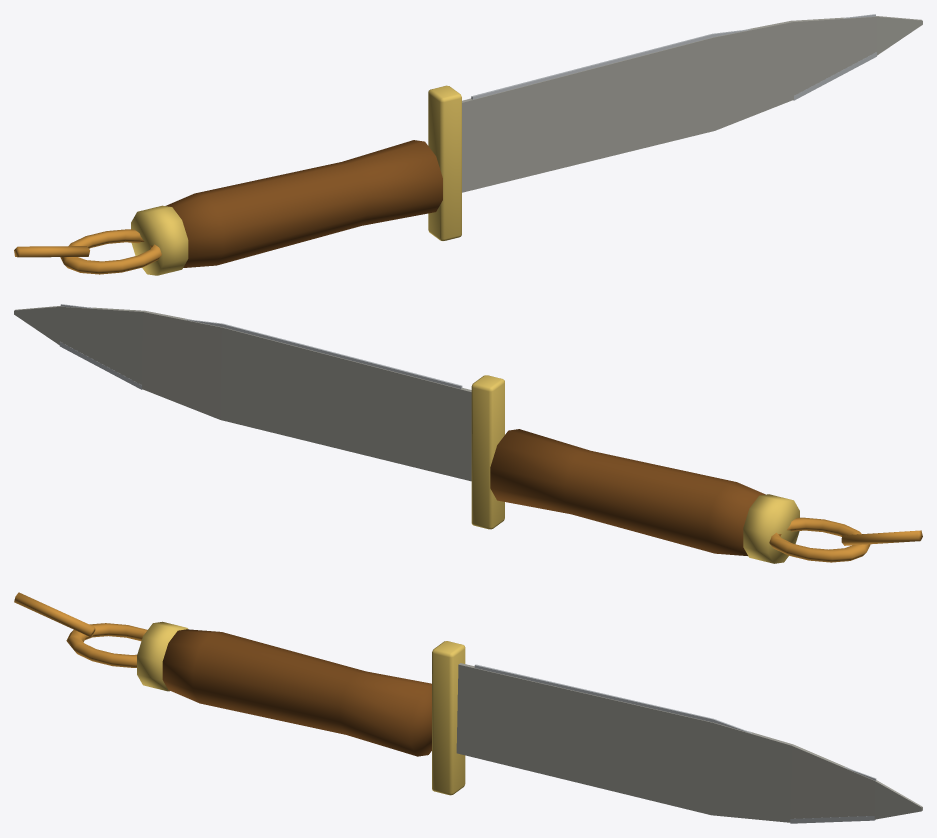
Rendered from item_bowie_knife.glb.
3 views of the same model, one above another, from view 1: azimuth 30°, elevation 25°; view 2: azimuth 150°, elevation 25°; view 3: azimuth 330°, elevation 25° (orthographic).
Visible parts, largest first — view 1: blade, handle, guard, pommel, loop, edge, tail; view 2: blade, handle, guard, pommel, loop, edge, tail; view 3: blade, handle, guard, pommel, loop, edge, tail.
Boxes of the visible parts, bbox=[...] form: blade: bbox=[462, 16, 922, 192]; handle: bbox=[166, 140, 442, 267]; guard: bbox=[428, 85, 461, 240]; pommel: bbox=[131, 205, 188, 275]; loop: bbox=[60, 229, 161, 274]; edge: bbox=[471, 14, 875, 99]; tail: bbox=[14, 246, 89, 257]; blade: bbox=[14, 306, 471, 481]; handle: bbox=[490, 429, 765, 555]; guard: bbox=[471, 375, 504, 529]; pommel: bbox=[743, 494, 799, 563]; loop: bbox=[769, 517, 870, 562]; edge: bbox=[60, 304, 462, 388]; tail: bbox=[841, 530, 922, 545]; blade: bbox=[456, 663, 922, 822]; handle: bbox=[162, 629, 431, 756]; guard: bbox=[432, 641, 465, 795]; pommel: bbox=[137, 621, 187, 691]; loop: bbox=[66, 623, 147, 667]; edge: bbox=[474, 664, 876, 780]; tail: bbox=[14, 592, 95, 636].
Size of the model in its own units: 0.5724 by 0.0862 by 0.0427.
